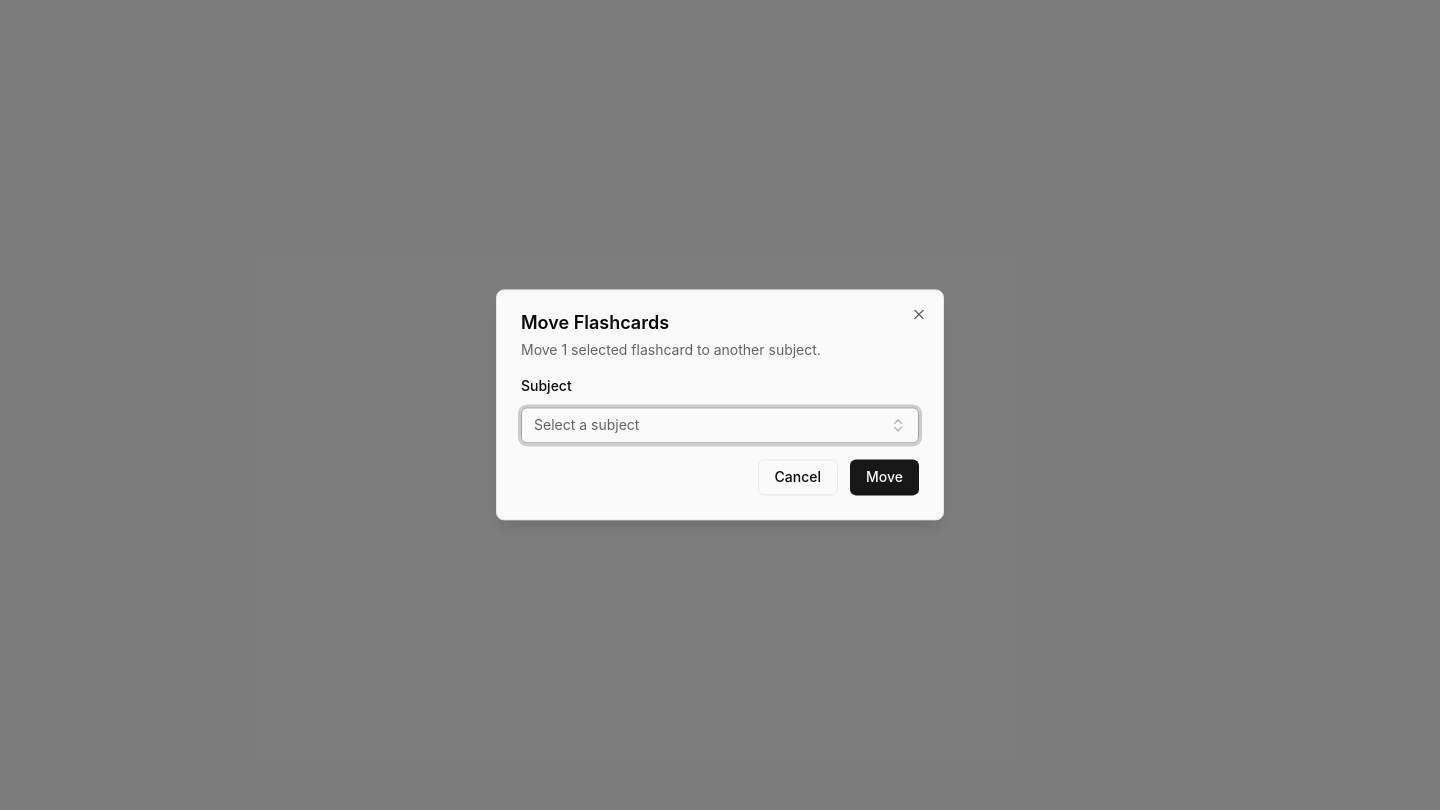
Test case: BulkMoveFlashcardsDialog › does not refetch decks or reset the selected subject on rerender with the same ids
Click the button "Select a subject". click: {"x": 587, "y": 425}
box: [521,408,919,444]
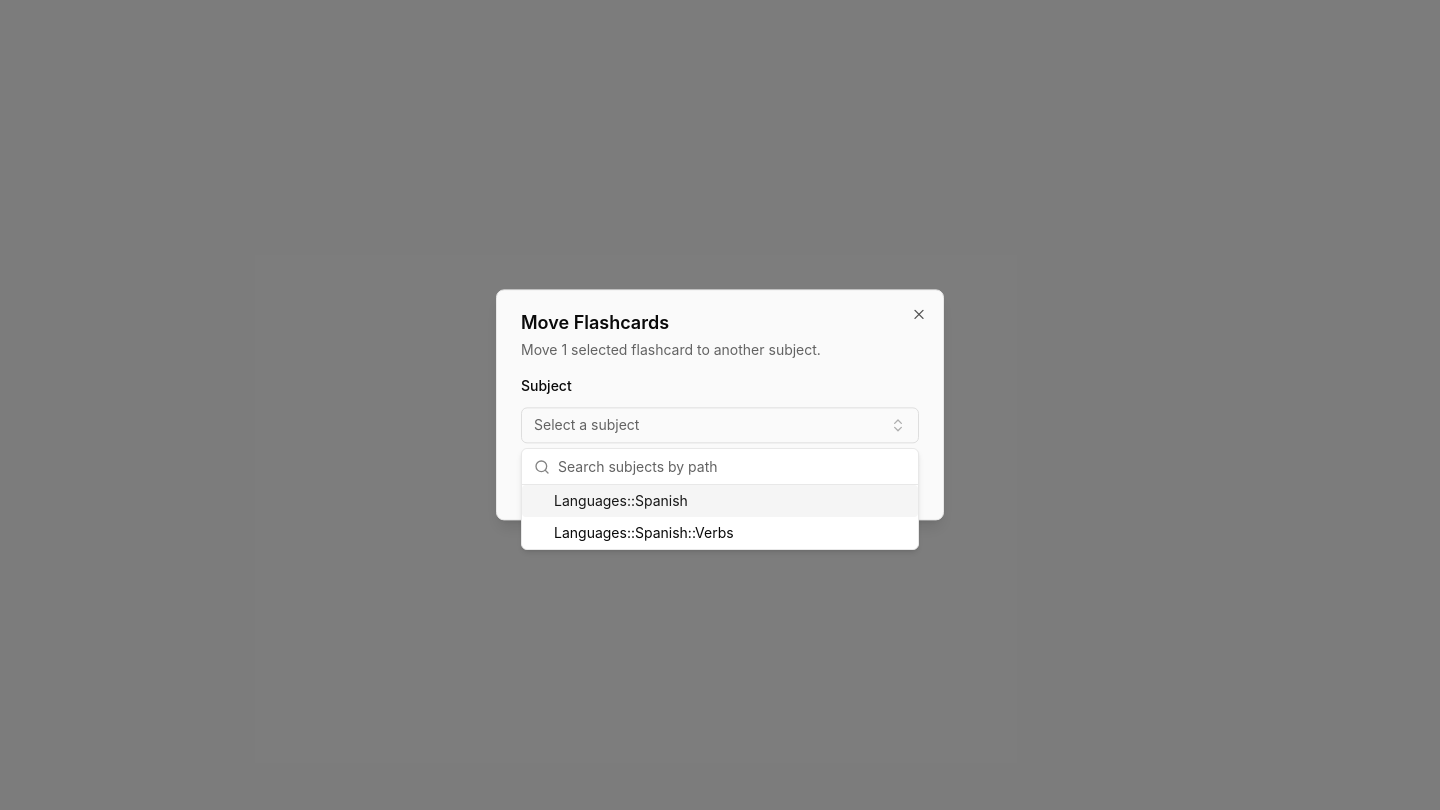
Expected: the option "Languages::Spanish::Verbs" is shown
Click the option "Languages::Spanish::Verbs". click: {"x": 644, "y": 532}
box: [554,524,734,541]
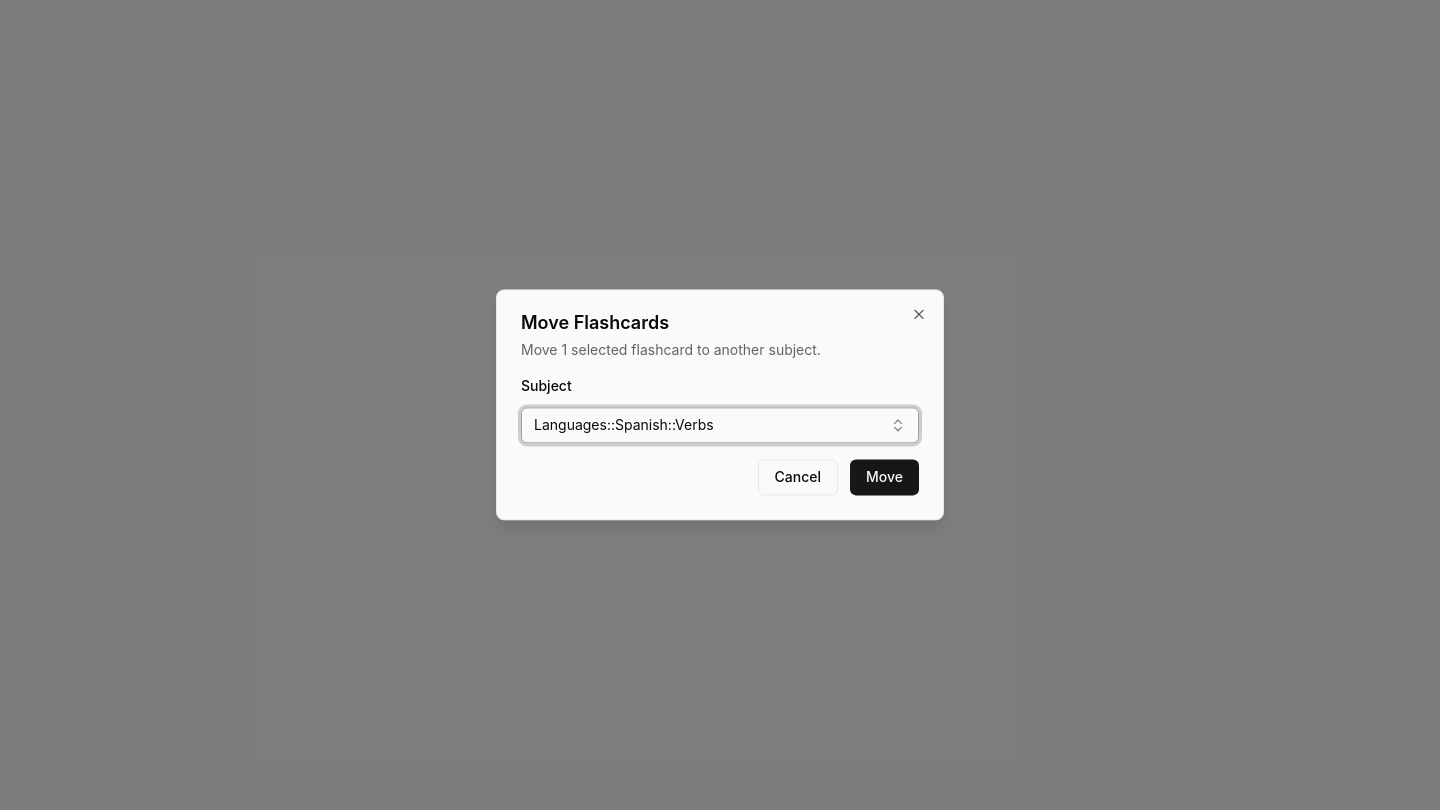
Expected: the button "Languages::Spanish::Verbs" is shown, [521,408,919,444]
